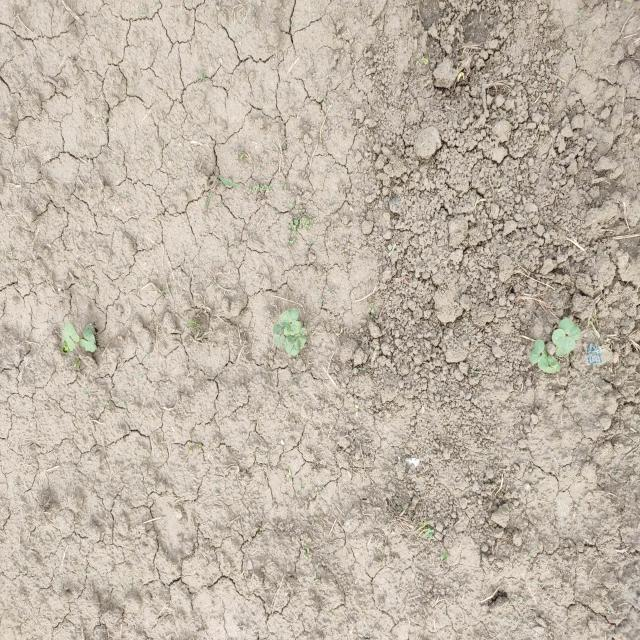seedling_s2: (552, 329, 575, 352), (559, 318, 581, 341), (279, 308, 299, 327), (530, 339, 544, 364), (65, 322, 80, 342), (62, 329, 75, 351), (284, 321, 301, 336), (538, 348, 549, 371), (298, 328, 308, 351), (83, 325, 95, 344), (291, 336, 302, 356), (79, 339, 95, 352), (548, 355, 560, 372), (274, 334, 286, 348), (273, 324, 285, 336), (285, 336, 293, 354), (288, 333, 298, 345), (543, 366, 555, 373), (556, 346, 564, 356)
